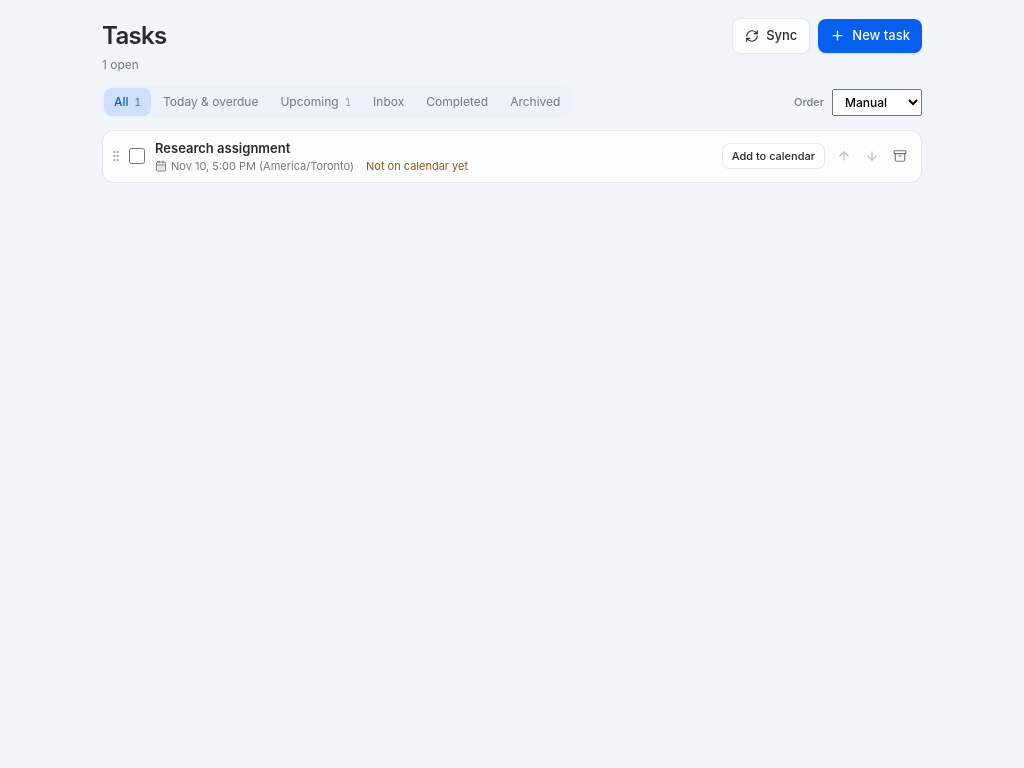
keeps the stale-edit reload action beside the editor
This screenshot has width=1024, height=768.
Click the button "Research assignment": (223, 148) x1=155 y1=138 x2=290 y2=158
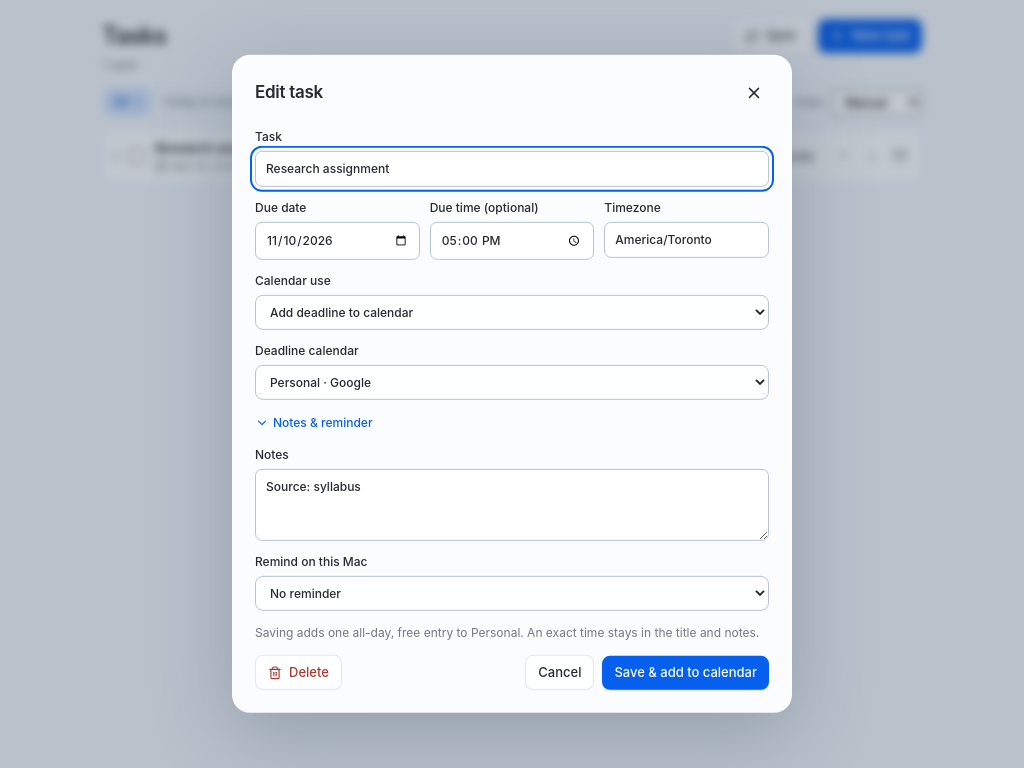
Click the button "Save & add to calendar": (686, 672) x1=602 y1=655 x2=769 y2=689
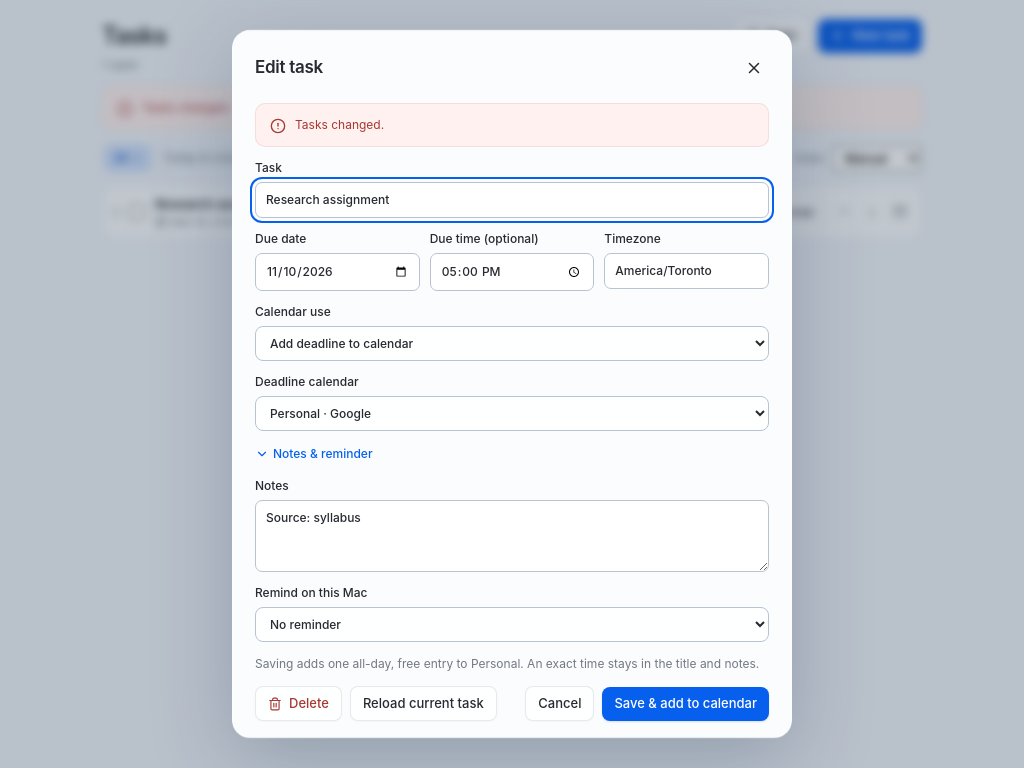
Expected: the button "Reload current task" is shown, x1=350 y1=686 x2=497 y2=721
